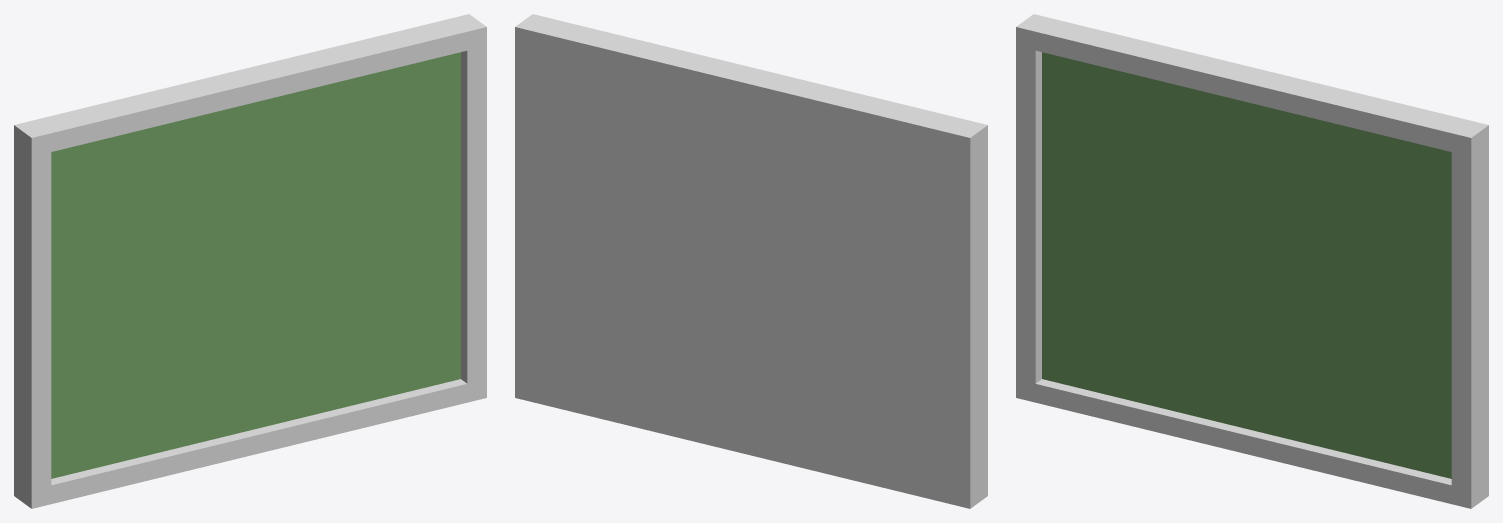
Rendered from Picture_05_dra.glb.
The picture shows the model from 3 angles, left to right: view 1: azimuth 30°, elevation 25°; view 2: azimuth 150°, elevation 25°; view 3: azimuth 330°, elevation 25°; orthographic projection.
Parts seen in each view (by area): view 1: Picture_05; view 2: Picture_05; view 3: Picture_05.
Part boxes in pixels (x1,y1,x2,y2): Picture_05: (14,14,486,508); Picture_05: (515,14,987,508); Picture_05: (1016,14,1488,508).
Bounding box in the file's own units: 0.6404 × 0.4987 × 0.0432.
1 material, 1 textured.
